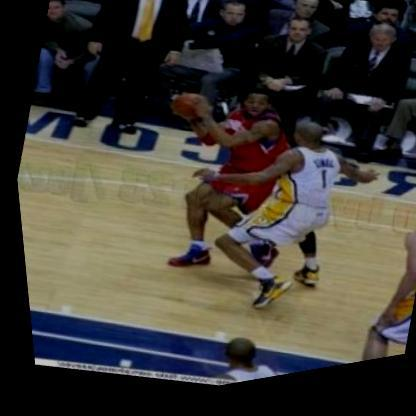basketball: (159, 89, 215, 140)
